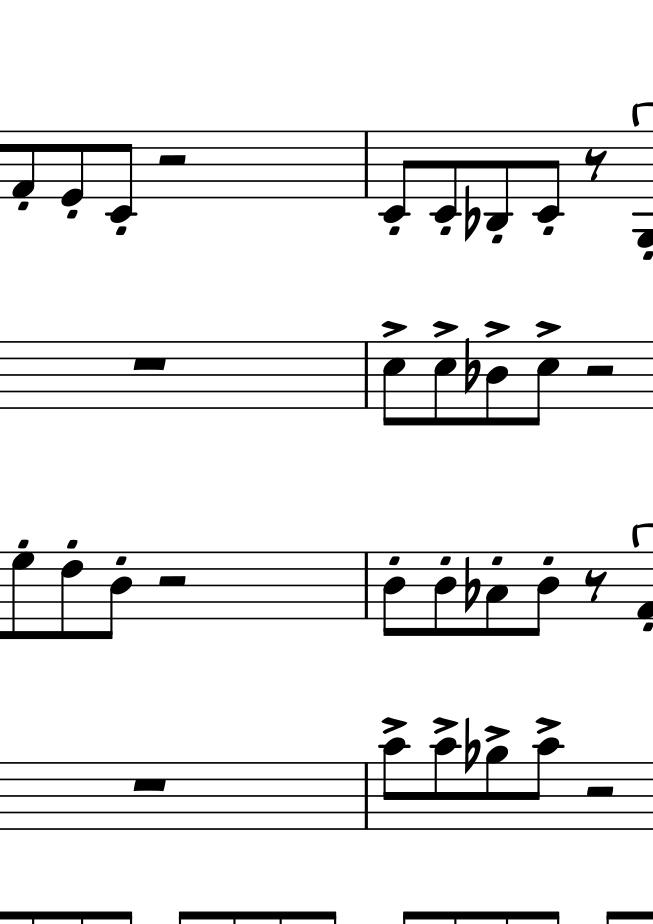8_-2: (378, 127, 415, 223), (104, 128, 134, 224), (532, 128, 562, 223), (432, 128, 461, 224)
8_-3: (486, 128, 513, 231)
8_0: (57, 128, 86, 208)
8_1: (10, 129, 37, 200)
8_10: (527, 737, 563, 832), (382, 735, 412, 833), (433, 736, 461, 833)
8_3: (484, 549, 511, 638)
8_4: (101, 550, 134, 639), (530, 548, 562, 638), (380, 550, 409, 638), (483, 339, 511, 428), (432, 549, 458, 638)
8_5: (527, 339, 561, 427), (380, 340, 408, 428), (432, 341, 457, 429)
8_6: (57, 551, 85, 641)
8_7: (10, 551, 36, 641)
8_9: (484, 745, 511, 833)
Accent_above: (379, 315, 410, 338), (533, 317, 562, 338), (431, 715, 461, 735), (430, 317, 458, 338), (483, 723, 510, 744), (483, 319, 511, 339), (380, 714, 407, 734), (533, 715, 561, 734)
Flat: (458, 558, 480, 614), (462, 336, 482, 392), (462, 714, 480, 775), (462, 187, 481, 244)
Rests1: (130, 352, 172, 371), (131, 775, 169, 796)
Rests2: (155, 148, 191, 170), (156, 573, 190, 592), (581, 363, 619, 378), (584, 783, 616, 800)
Rests4: (580, 569, 610, 601), (583, 146, 608, 181)
Single_barline: (358, 763, 375, 829), (358, 553, 375, 618), (358, 132, 375, 197), (359, 343, 375, 408)
